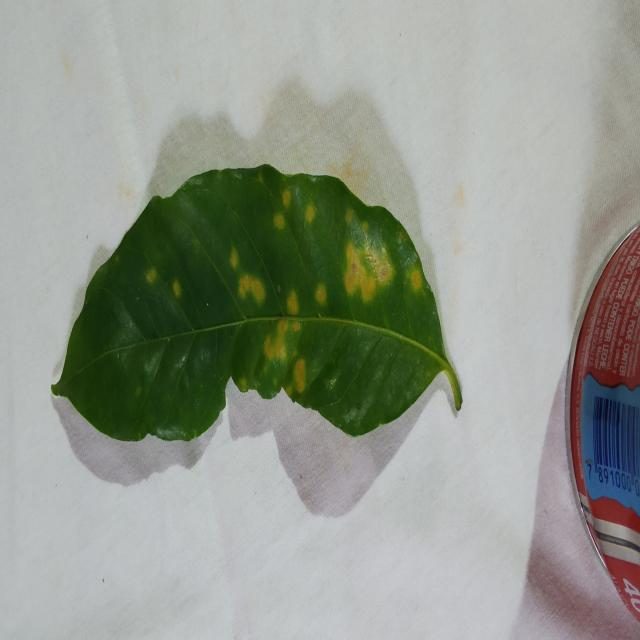Enfermedad-Roya: (49, 164, 464, 446)
